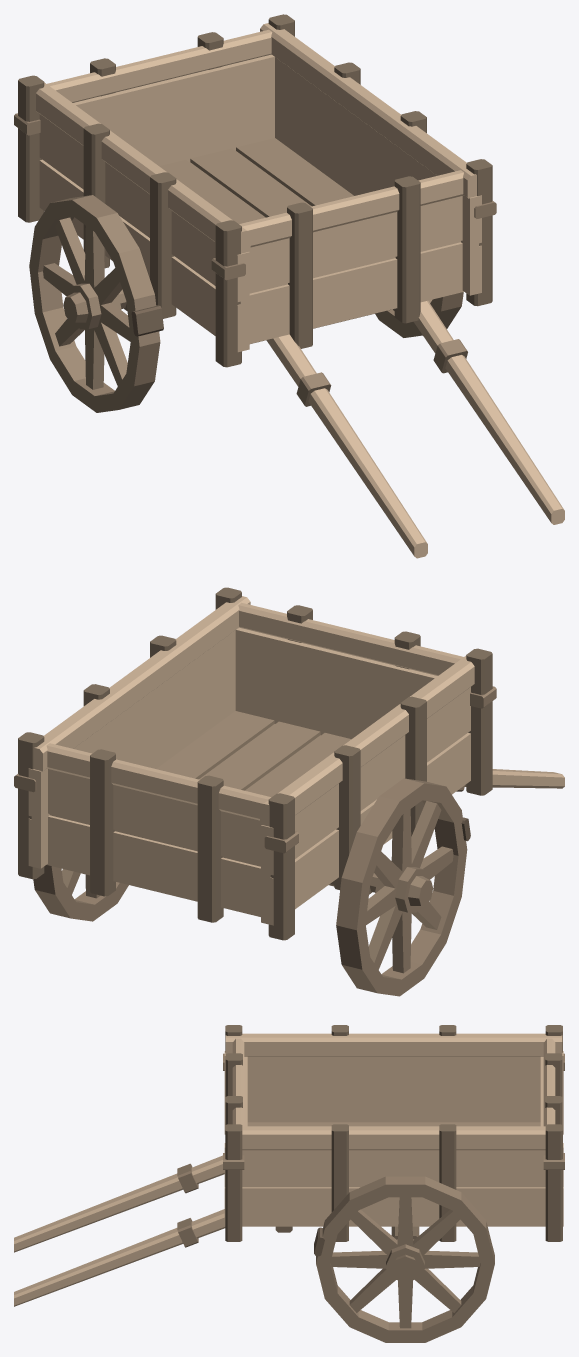
Rendered from wooden-hand-cart-3ae5b5.glb.
The picture shows the model from 3 angles, top to bottom: view 1: azimuth 30°, elevation 25°; view 2: azimuth 150°, elevation 25°; view 3: azimuth 270°, elevation 25°; orthographic projection. The views are drawn at different scales.
Visible parts, largest first — view 1: cart-body, wheel-left-mesh, wheel-right-mesh; view 2: cart-body, wheel-left-mesh, wheel-right-mesh; view 3: cart-body, wheel-right-mesh.
Part boxes in pixels (x1,y1,x2,y2): cart-body: [14, 14, 564, 558]; wheel-left-mesh: [29, 195, 163, 412]; wheel-right-mesh: [375, 292, 463, 337]; cart-body: [14, 587, 564, 940]; wheel-left-mesh: [336, 778, 470, 996]; wheel-right-mesh: [33, 865, 128, 921]; cart-body: [14, 1025, 564, 1306]; wheel-right-mesh: [314, 1176, 494, 1342].
Bounding box in the file's own units: 1.45 × 0.9632 × 2.41.
